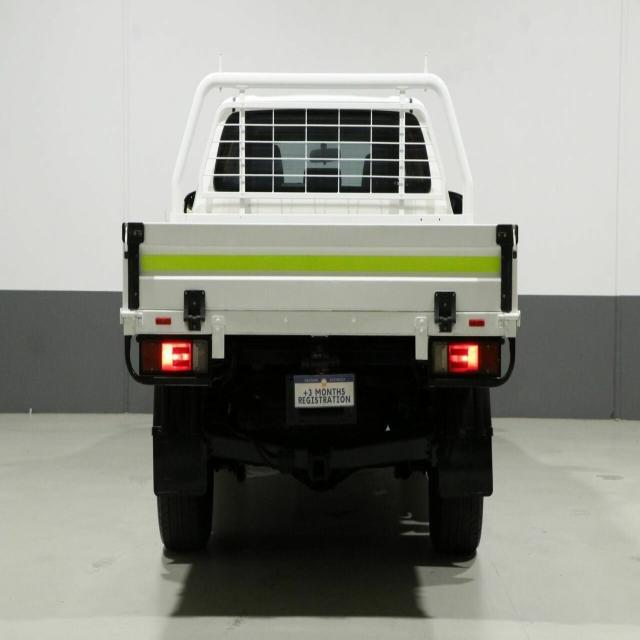light_vehicle: (110, 36, 534, 593)
